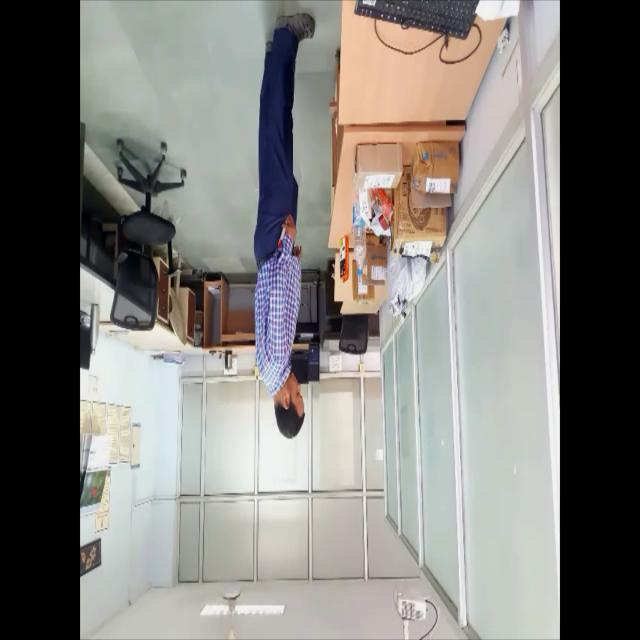shoplifting: (247, 0, 323, 455)
